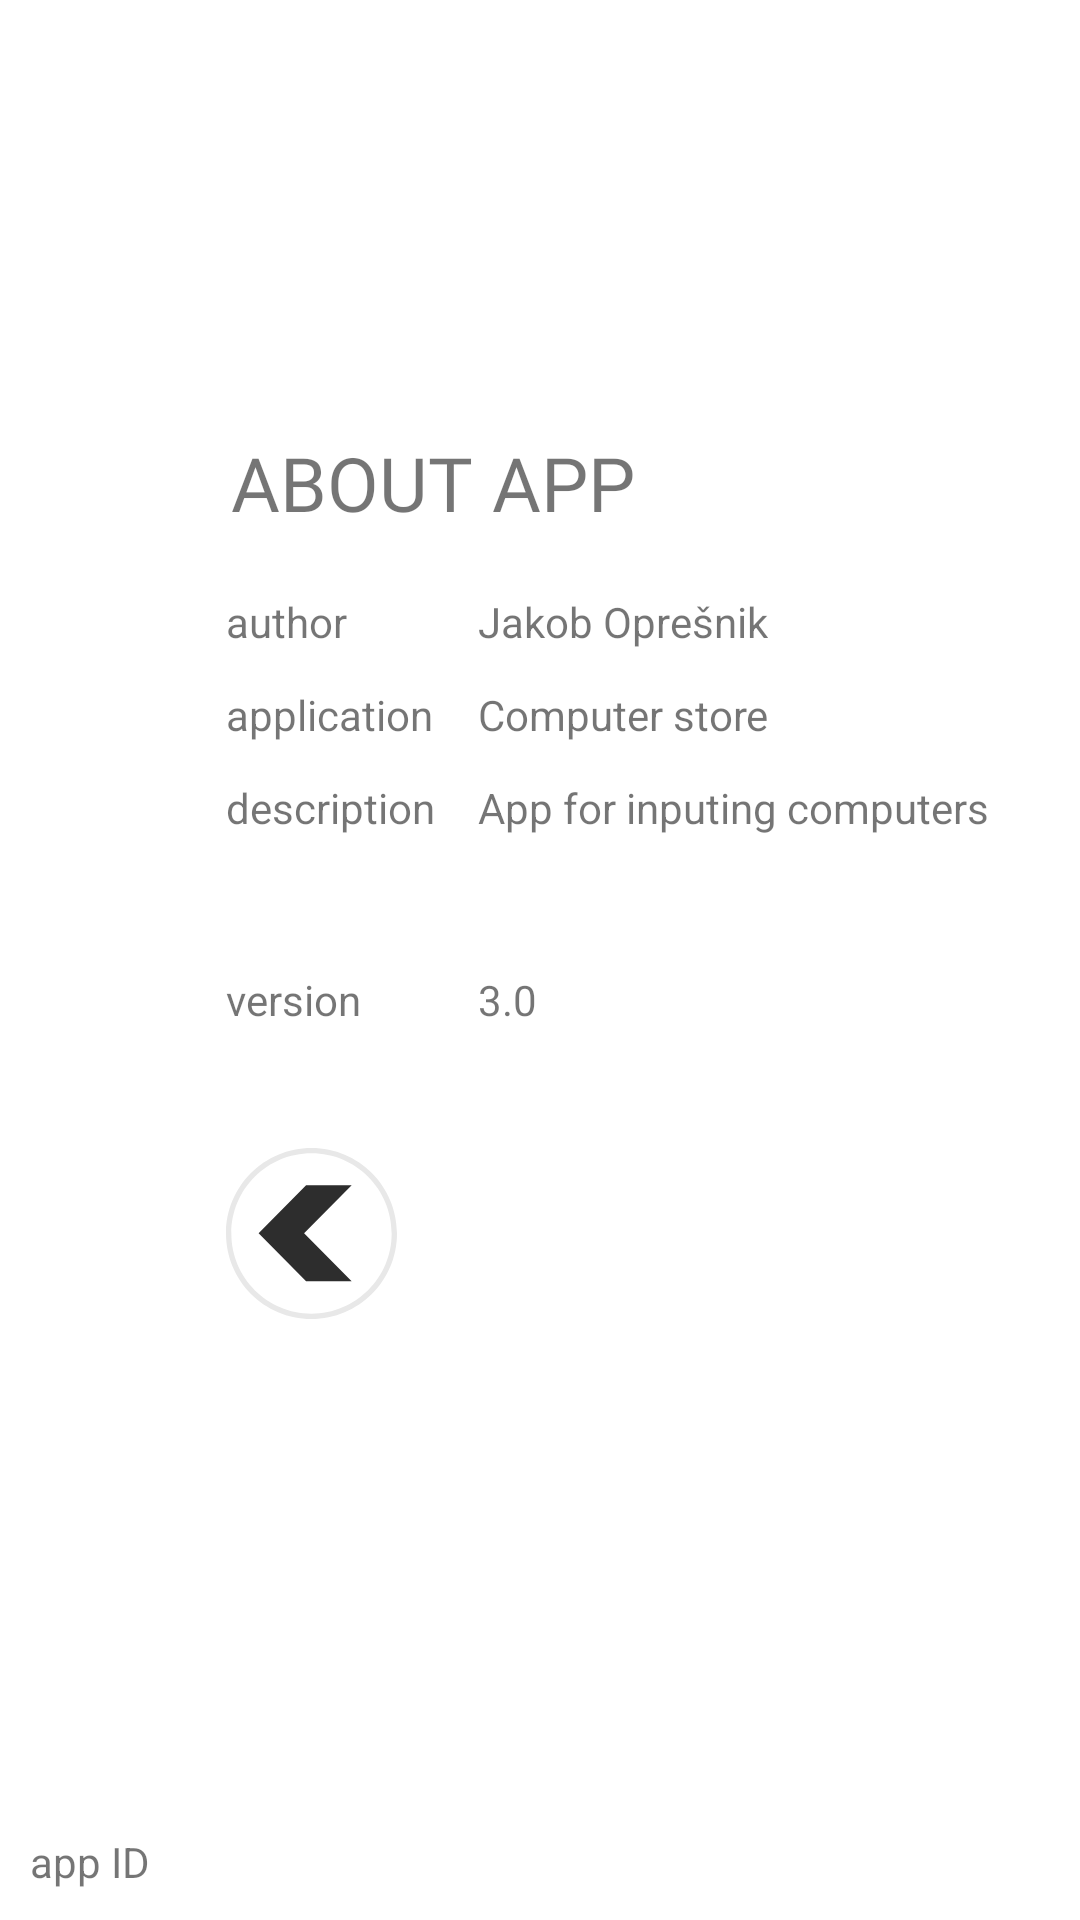

Screen size 1080 x 1920. Icon name, then its center in pixels as point (x, y):
back: point (305, 1233)
